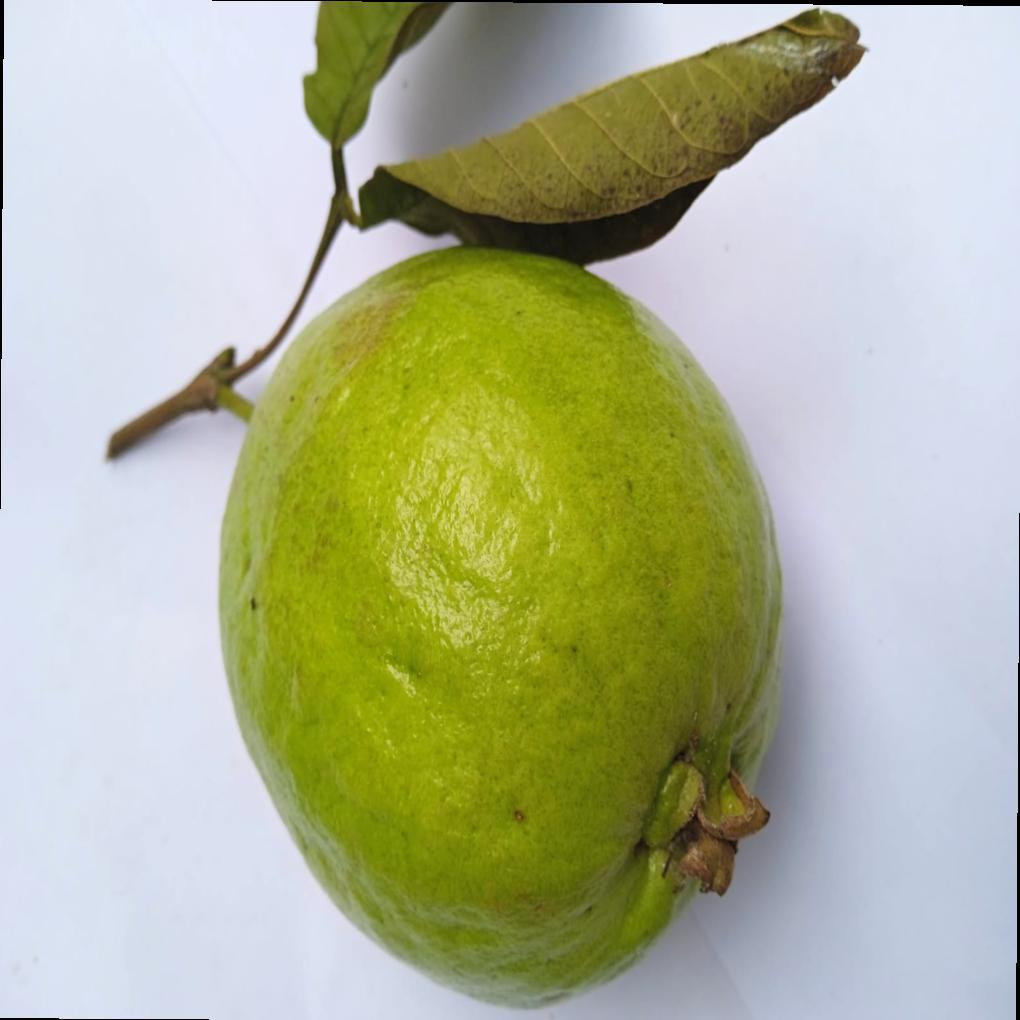FreshGuava: (214, 245, 786, 1013)
